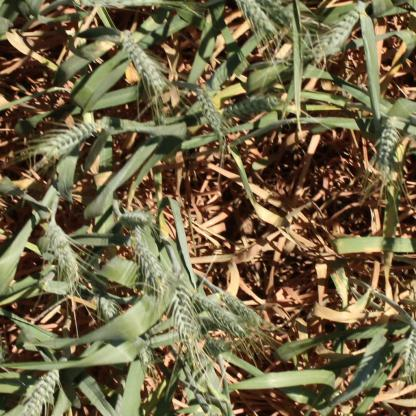whd: (122, 37, 172, 100), (23, 122, 99, 160), (194, 292, 246, 338), (318, 6, 359, 58), (171, 287, 199, 357), (47, 221, 79, 281), (22, 368, 60, 416), (234, 0, 277, 40), (223, 93, 280, 122), (219, 290, 264, 326), (134, 238, 167, 286), (377, 118, 402, 180), (197, 89, 227, 138), (259, 0, 292, 28), (73, 0, 163, 9), (404, 328, 416, 378), (203, 337, 232, 357), (120, 211, 152, 227), (99, 297, 119, 320), (139, 347, 154, 367)
